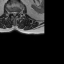CCS_normal: (13, 9, 15, 17)
LFS_stenosis: (17, 9, 19, 15)
LLS_stenosis: (15, 9, 17, 16)
RFS_normal: (9, 9, 11, 15)
RLS_normal: (11, 9, 13, 15)
